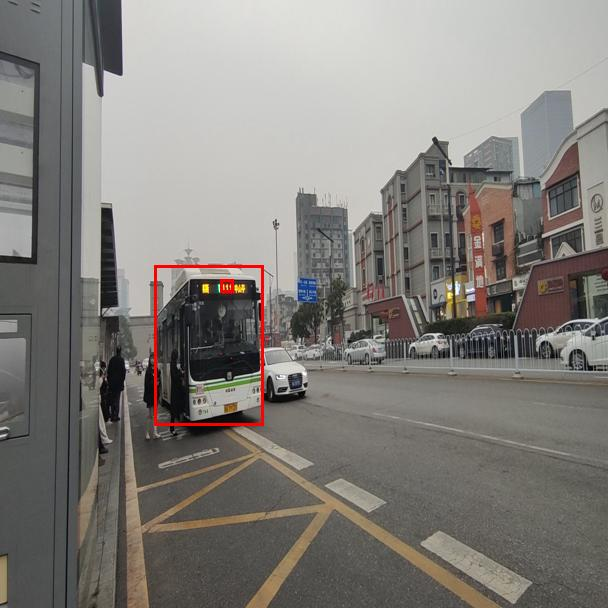bus: (154, 265, 263, 425)
screen: (220, 279, 233, 292)
